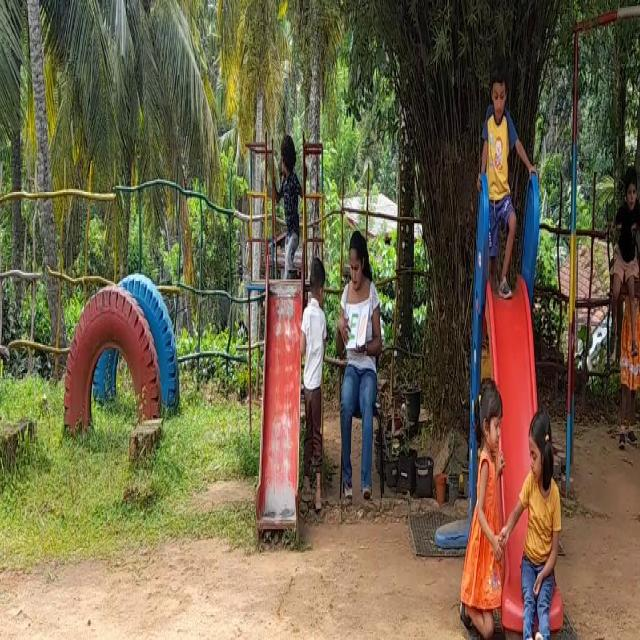adult: (338, 226, 384, 504)
child: (462, 368, 507, 636), (512, 404, 557, 640), (480, 49, 521, 293), (303, 238, 330, 511), (609, 158, 640, 358), (271, 124, 299, 274)
